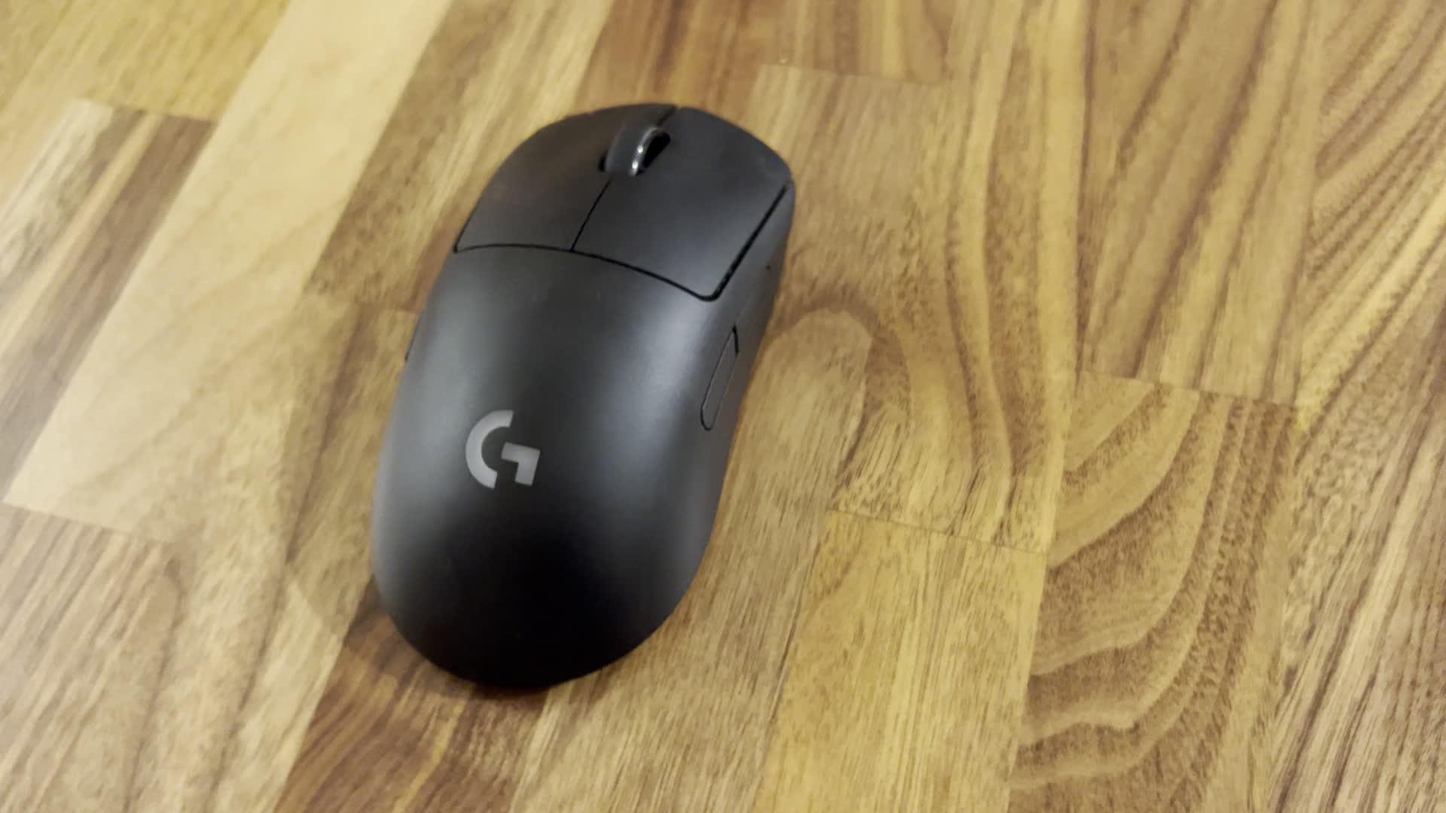mouse: (365, 95, 800, 694)
